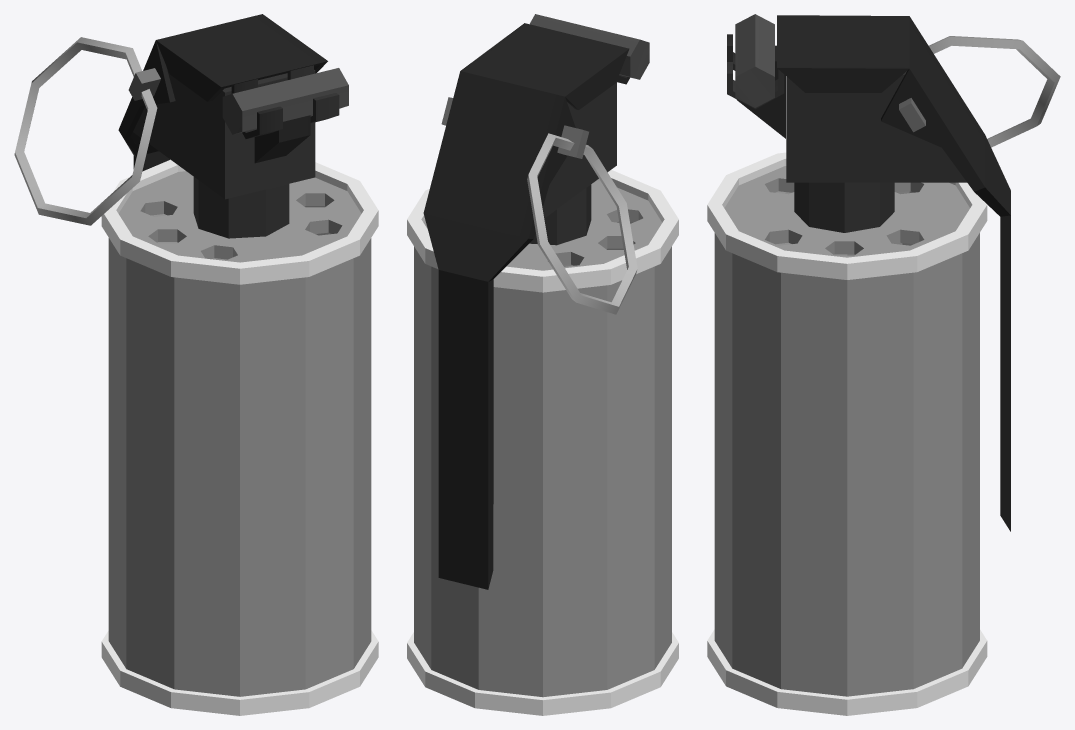
File: Smoke2.FBX
3 renders of one model, left to right at view 1: azimuth 30°, elevation 25°; view 2: azimuth 150°, elevation 25°; view 3: azimuth 270°, elevation 25°, orthographic. The views are drawn at different scales.
Parts seen in each view (by area): view 1: Cylinder030, Sphere018, Object047, Object049; view 2: Cylinder030, Sphere018, Object047, Object049; view 3: Cylinder030, Sphere018, Object047.
Boxes of the visible parts, x1,y1,x2,y2 form: Cylinder030: (101, 159, 378, 715); Sphere018: (118, 14, 348, 238); Object047: (14, 37, 157, 225); Object049: (128, 68, 160, 100); Cylinder030: (407, 169, 678, 715); Sphere018: (423, 14, 649, 589); Object047: (527, 133, 637, 314); Object049: (441, 97, 588, 158); Cylinder030: (707, 152, 987, 715); Sphere018: (727, 14, 1010, 531); Object047: (929, 36, 1060, 147).
Bounding box in the file's own units: 0.1352 × 0.3033 × 0.1575.
